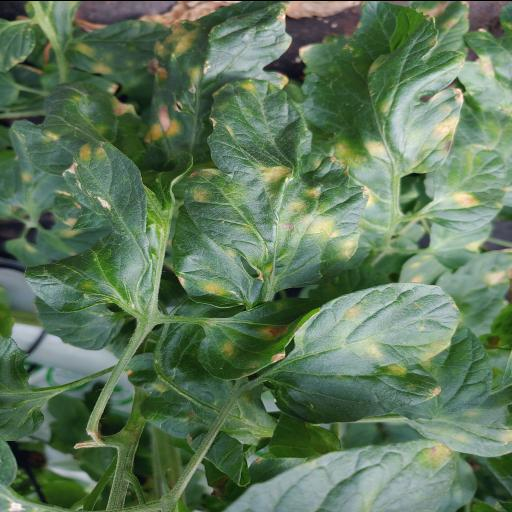disease_tomato: (170, 77, 370, 307), (297, 0, 461, 271), (262, 281, 460, 423), (24, 140, 152, 312), (425, 142, 507, 232)
